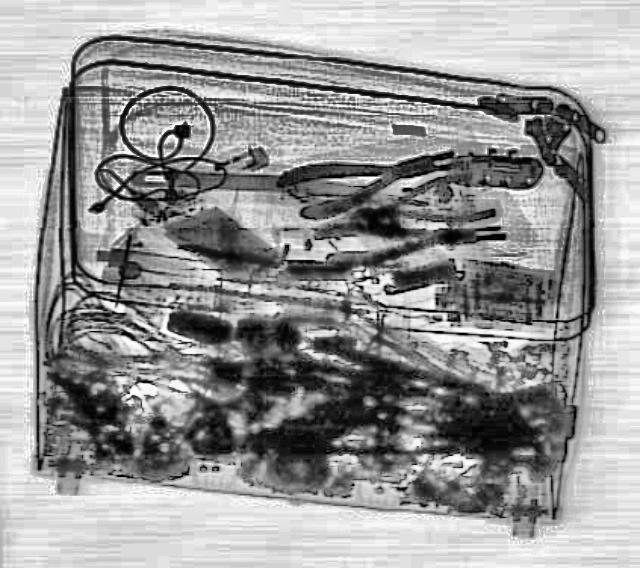Pliers: (269, 127, 465, 224), (308, 206, 507, 276), (338, 167, 496, 241)
